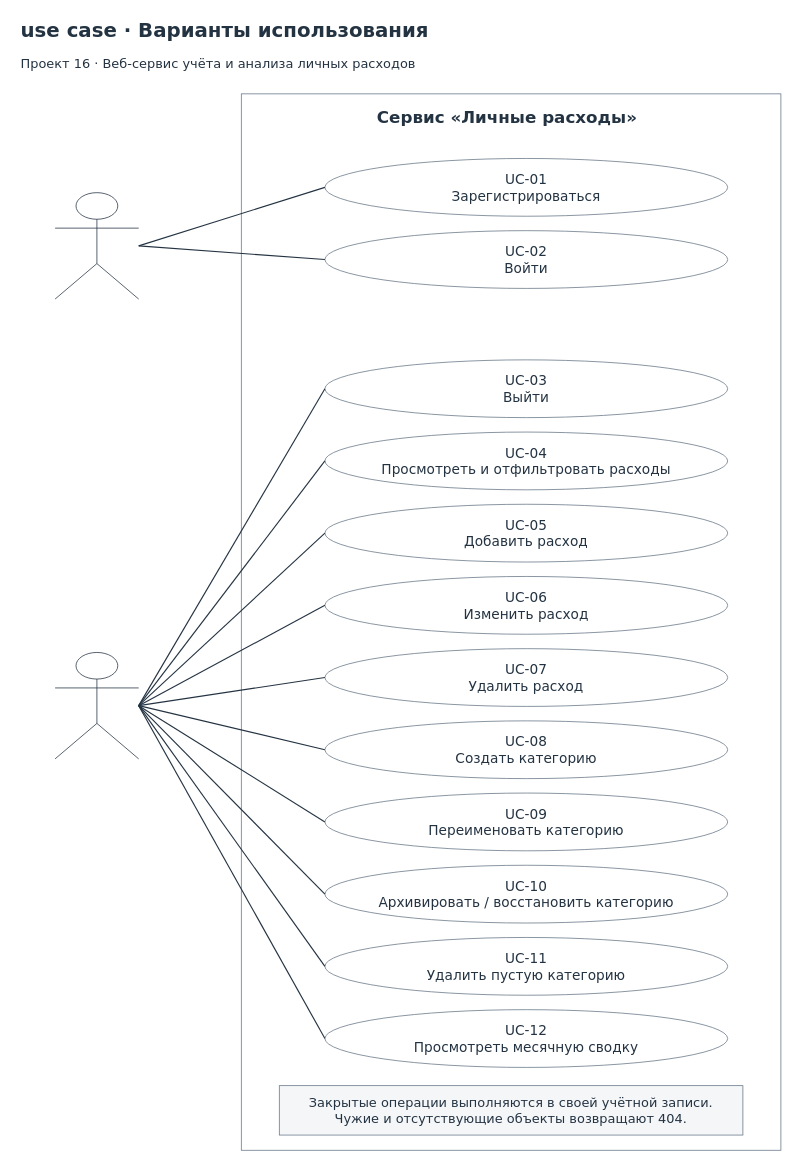
Some shapes in this 801 by 1164 pixel diagram are drawn without their labels. The shapes that lost their labels are listed below. From the top down, each one's centre as x and y in pixels, then its label:
At point 96,245: "Гость".
At point 96,705: "Пользователь".
